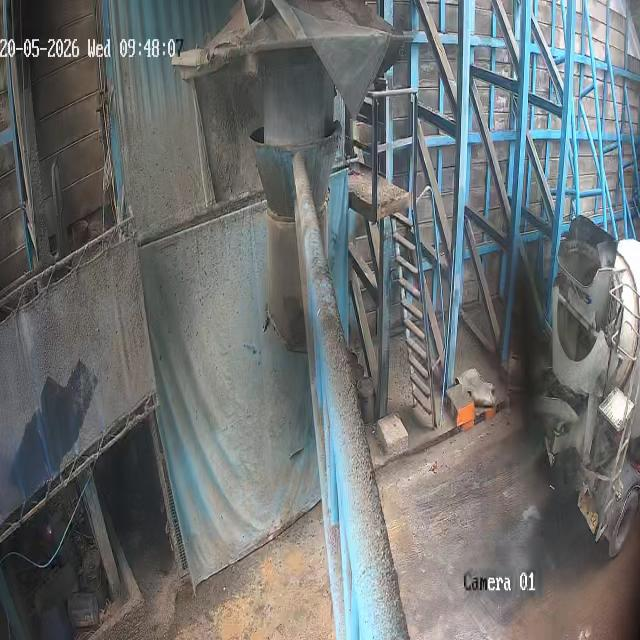cement_mixer_truck: (538, 215, 640, 564)
swing_chute: (252, 122, 343, 350)
